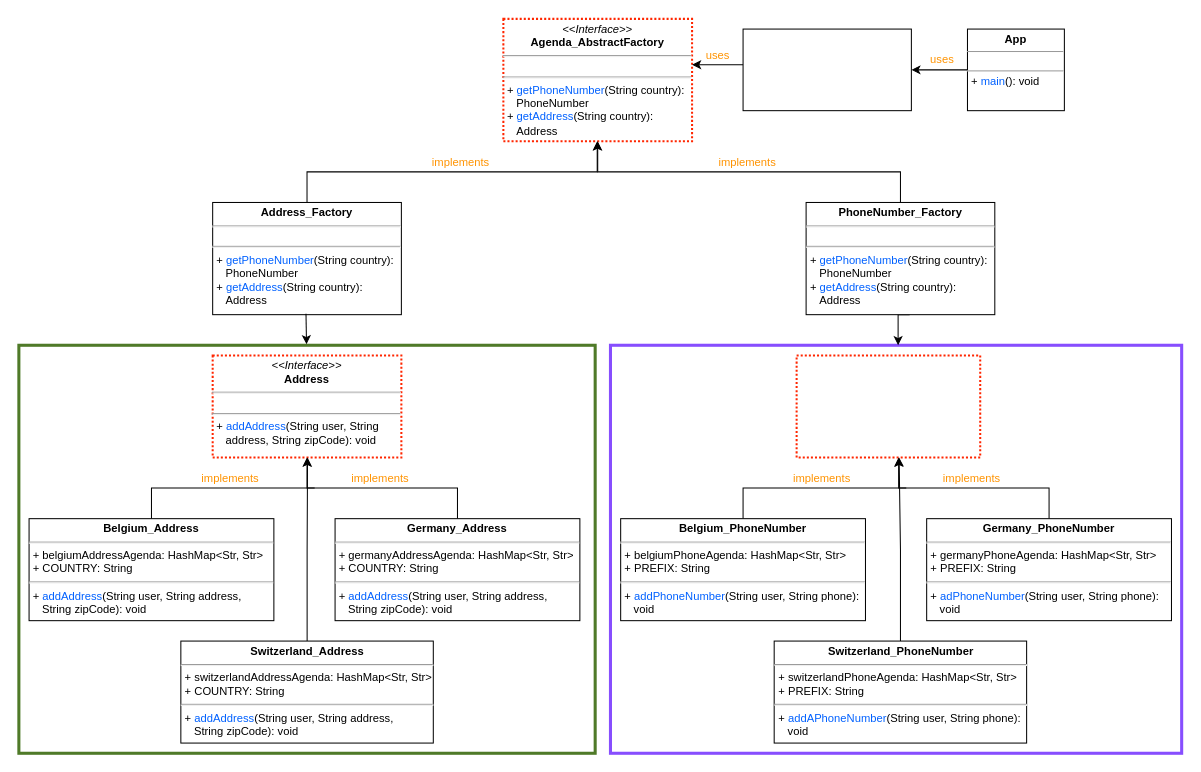
This 1201x772 diagram has some shape labels left out. The centre of each missing label's shape, as x and y in pixels:
"<<Interface>> PhoneNumber + addPhoneNumber (String user, String phone): void" belongs at (x=888, y=406).
"FactoryProducer + getFactory (String factorType): Agenda_AbstractFactory" belongs at (x=826, y=69).
